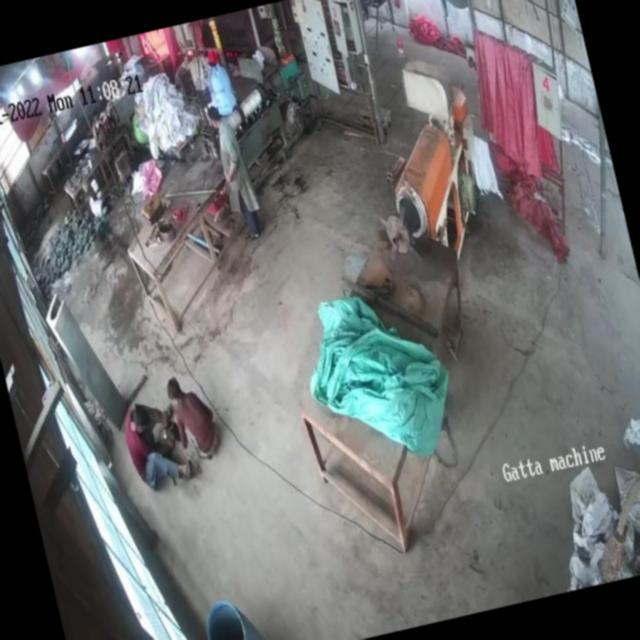person: (209, 103, 266, 240), (119, 398, 188, 506), (169, 373, 216, 453)
